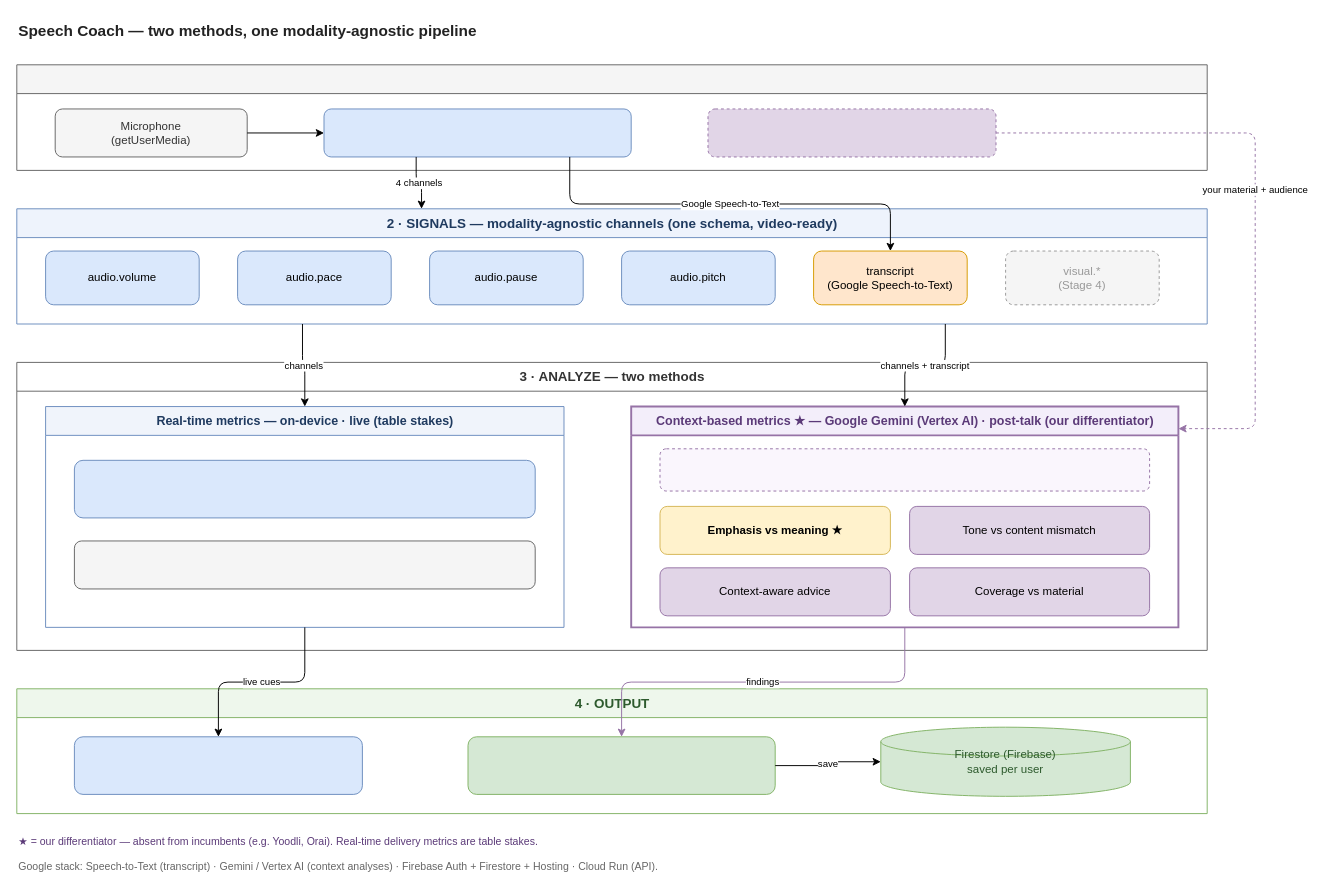
Image size: 1325x893. Some labels were removed from this diagram. Here are the shapes that lost their labels. From the top down, the box of each, then its label:
(323, 108, 631, 157): Web Audio → live signals + MediaRecorder → audio clip
(16, 64, 1207, 170): 1 · CAPTURE — browser, on-device
(707, 108, 996, 157): You provide: slides / script / notes + audience & setting
(73, 459, 535, 518): Live meters pace · pitch · volume · dead-air
(659, 448, 1150, 491): Grounded in: transcript + your material + audience & setting
(73, 540, 535, 589): One calm nudge
(73, 736, 362, 794): Live Dashboard (during the talk)
(467, 736, 775, 794): Coaching Report ★ (after you stop — incl. your live delivery stats)
